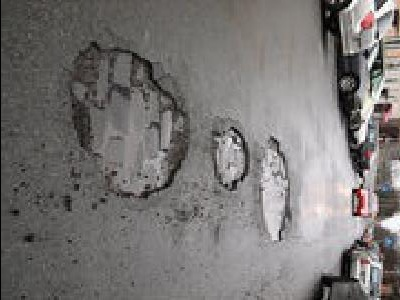pothole: (61, 34, 194, 204), (259, 132, 293, 246), (209, 121, 248, 192)
